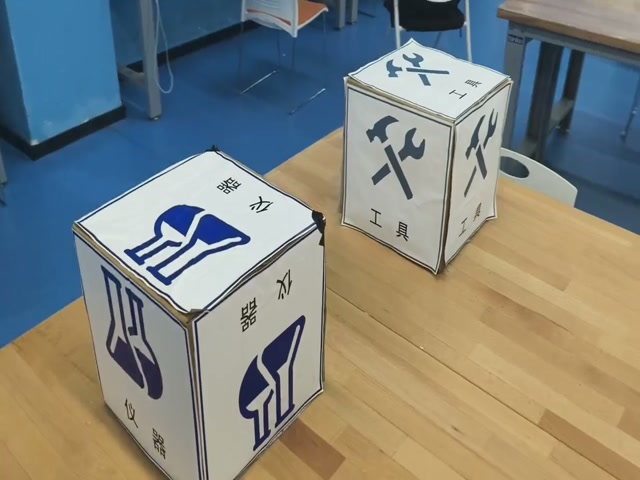Cube_ins: (73, 150, 324, 327)
Cube_tool: (345, 40, 511, 122)
